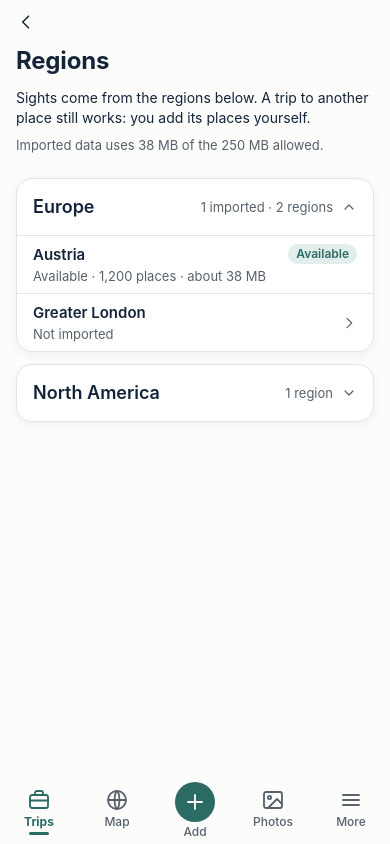
Test: the regions are listed under their continent, and a continent folds
Expected: the heading "Europe" is shown, [33,196,94,217]
Expected: the heading "North America" is shown, [33,382,160,403]
# Open the closed one, close the open one.
Click the button with test id "continent-North America" at (96, 392), box [17,365,373,421]
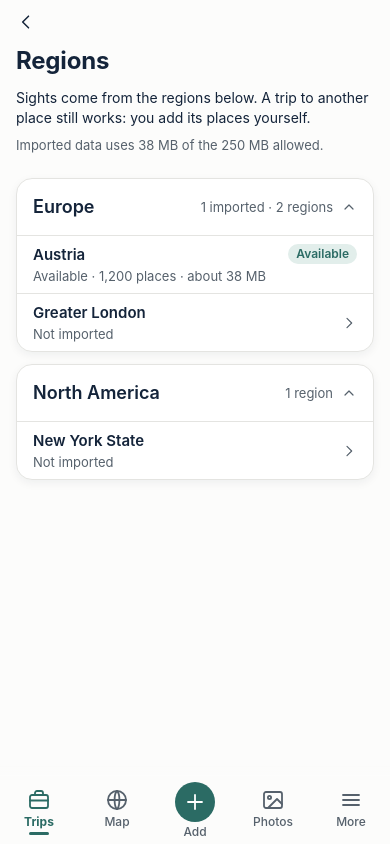
Result: the text "New York State" is shown at [33,431,144,450]
Click the button with test id "continent-Europe" at (64, 206), box [17,179,373,235]
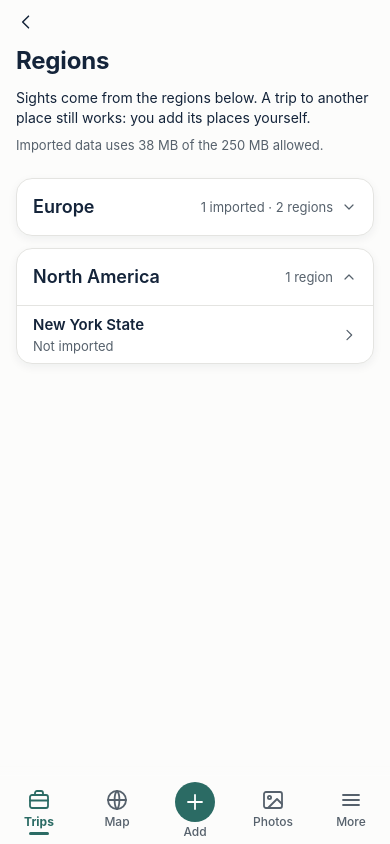
Result: the button "Austria" is gone
